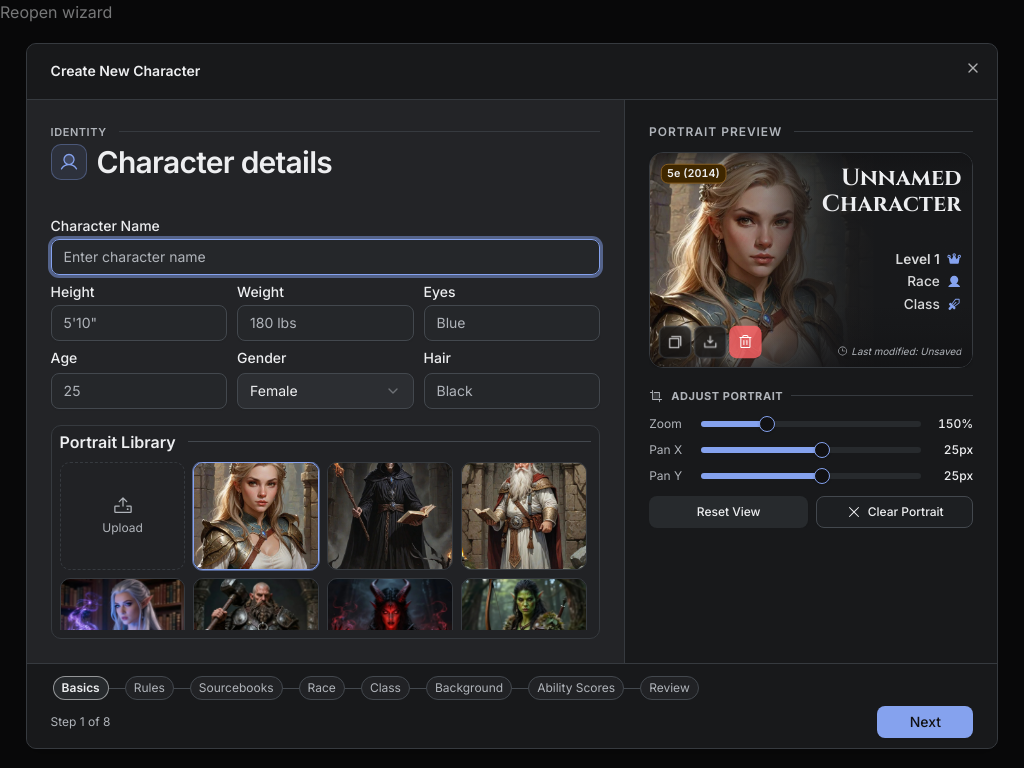
Test: Close closes an untouched wizard without confirmation
What coordinates should you click on to do the following:
click the 1st button named "Close"
I would click on:
 (973, 68)
Its box is [965,60,981,76].
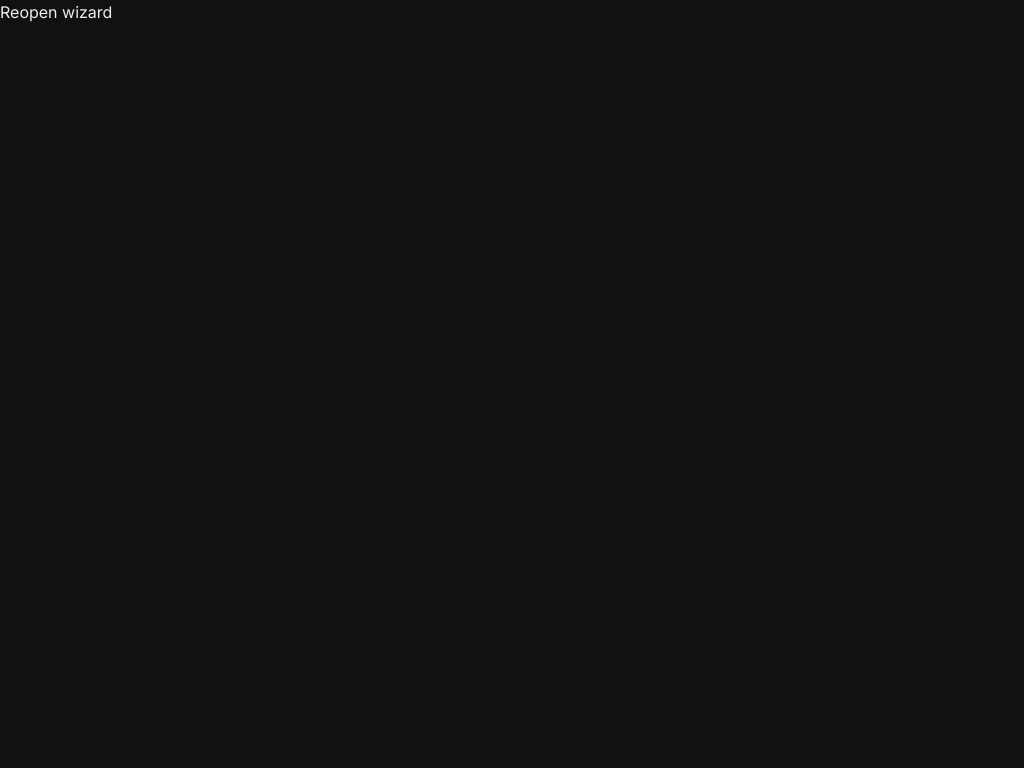
Expected: the dialog is gone
